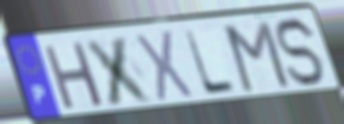H: (41, 39, 107, 114)
L: (181, 28, 239, 97)
M: (222, 18, 293, 95)
S: (274, 15, 327, 90)
X: (82, 33, 158, 108), (133, 28, 197, 104)
